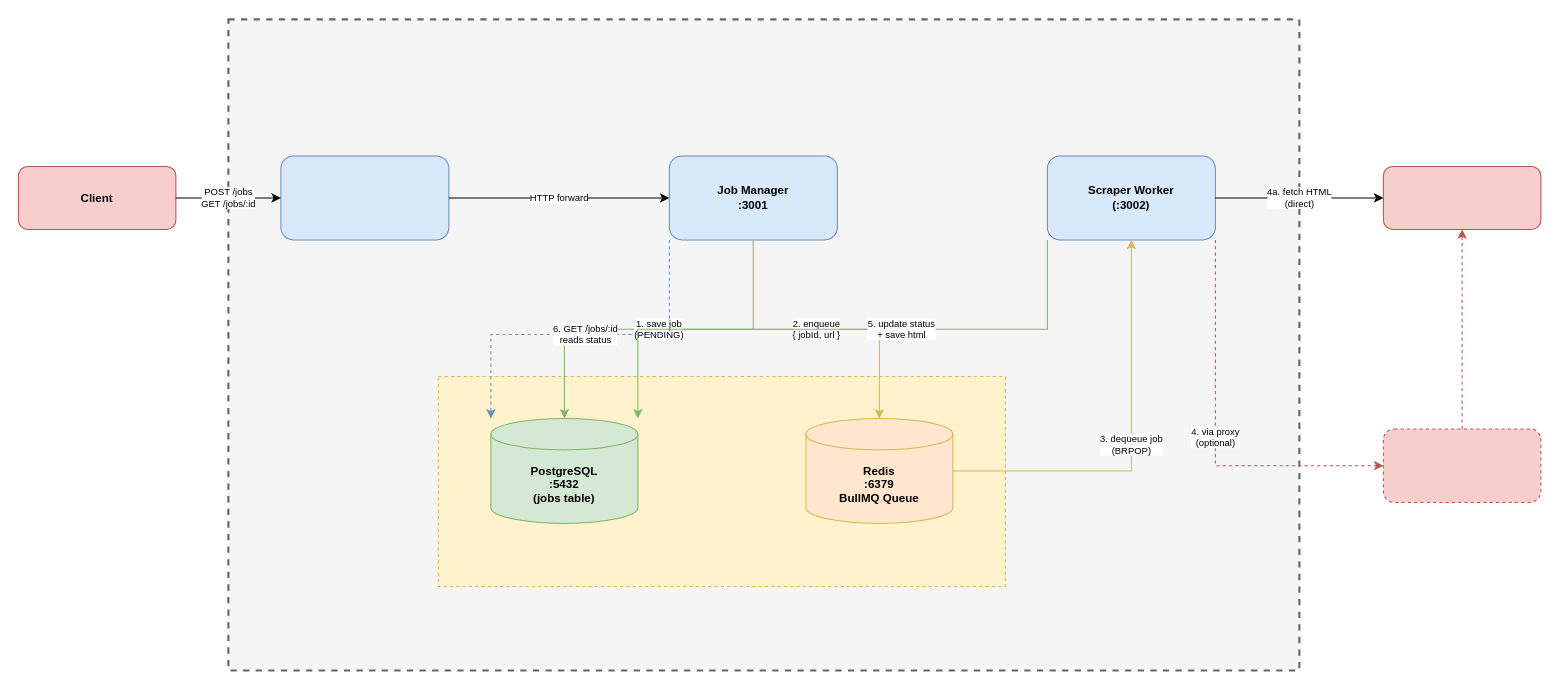
Some shapes in this 1559 by 689 pixel diagram are drawn without their labels. Here are the shapes that lost their labels. From the top down, the box of each, then its label:
(280, 155, 449, 240): API Service :3000
(1382, 165, 1541, 229): Target URLs (the internet)
(1382, 428, 1541, 502): Proxy (optional) PROXY_URL env var
